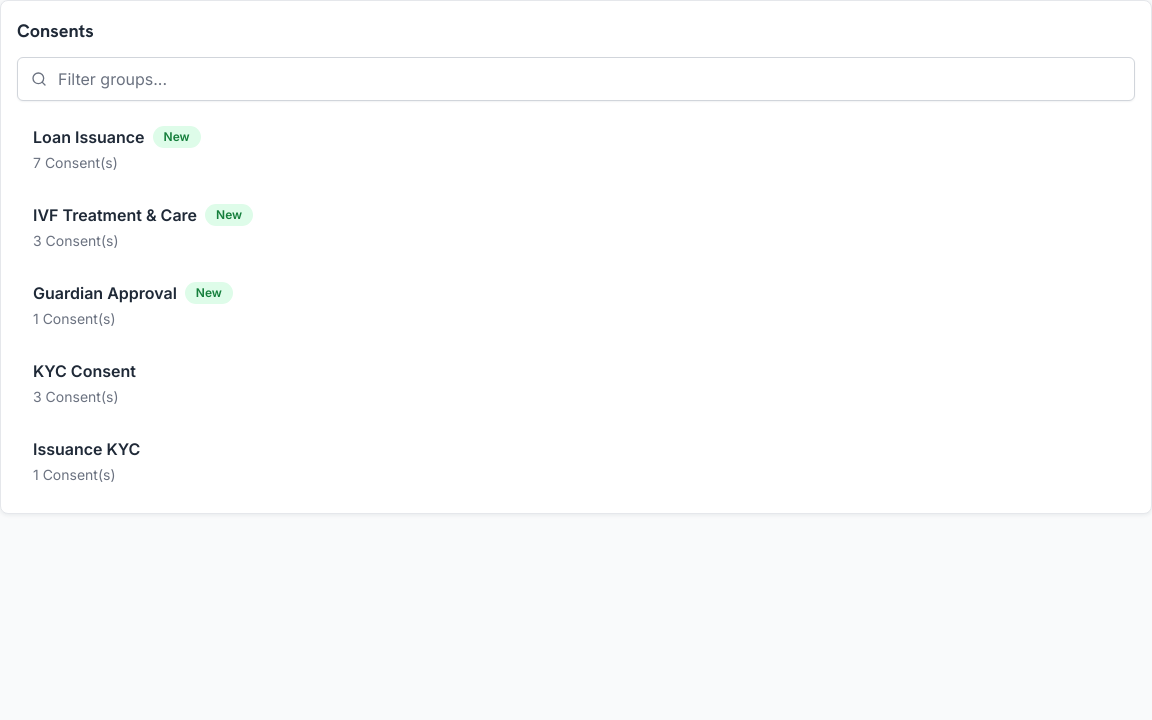
ConsentGroupsList › filters the list by the search query
This screenshot has width=1152, height=720.
Type "Loan Issuance" into the search field named "Search groups". click: point(576, 79)
box: 17,57 -> 1135,101
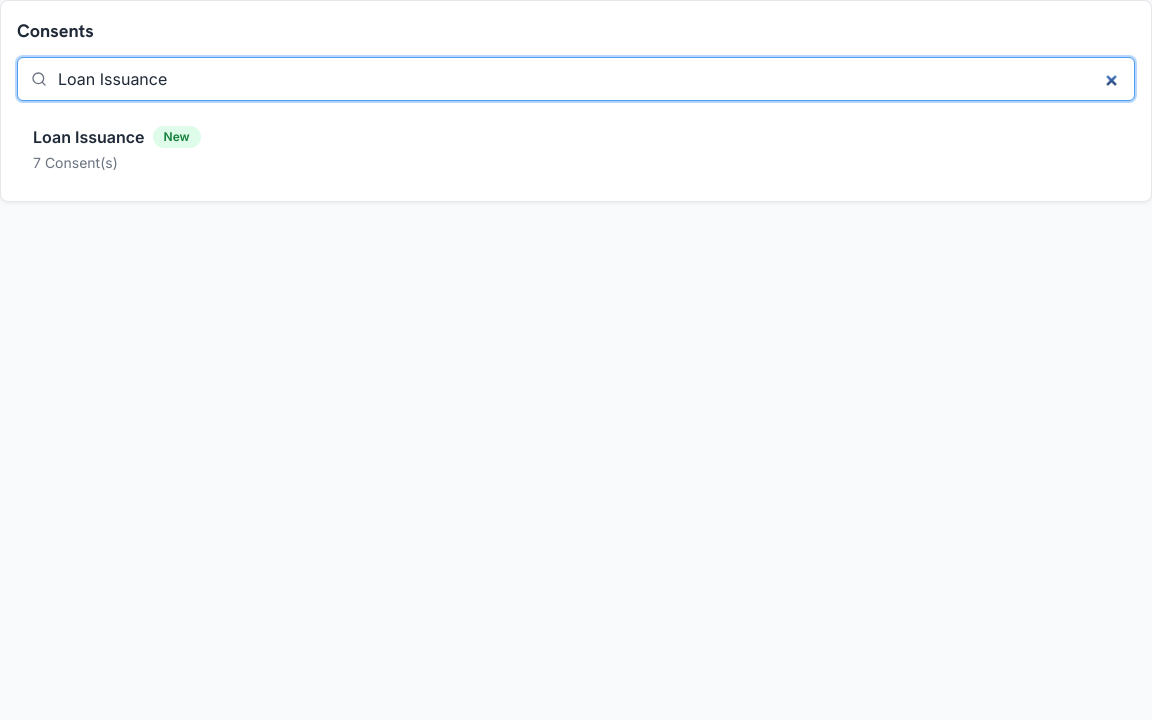
Expected: the text "Loan Issuance" is shown, 33,125 -> 144,149
Expected: the link "IVF Treatment & Care" is gone
